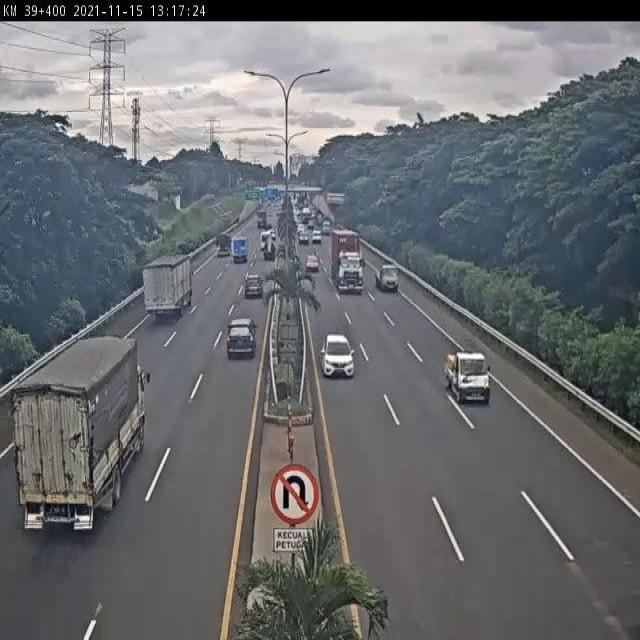big truck: (330, 229, 363, 295)
car: (225, 316, 258, 361), (321, 333, 353, 379), (242, 271, 265, 300), (304, 250, 322, 274)
truck-m-: (17, 339, 145, 528), (142, 253, 193, 319)
truck-s-: (443, 349, 489, 403), (376, 262, 401, 294)
